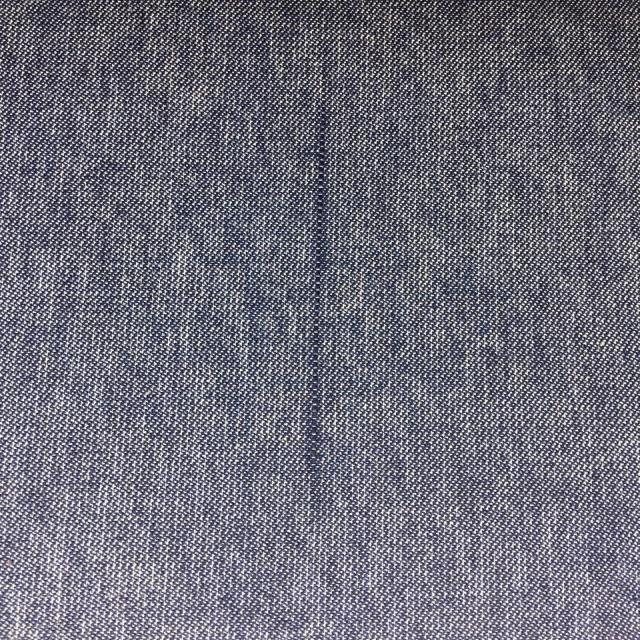Line: (305, 62, 330, 476)
